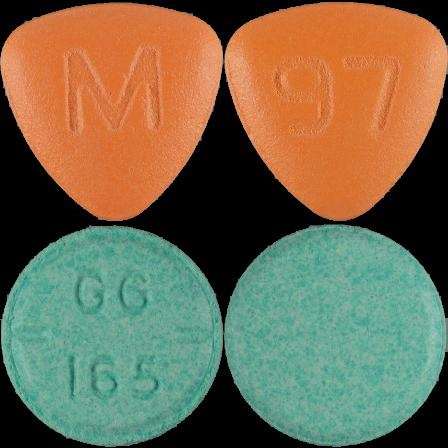0615-3574: (0, 0, 224, 224)
